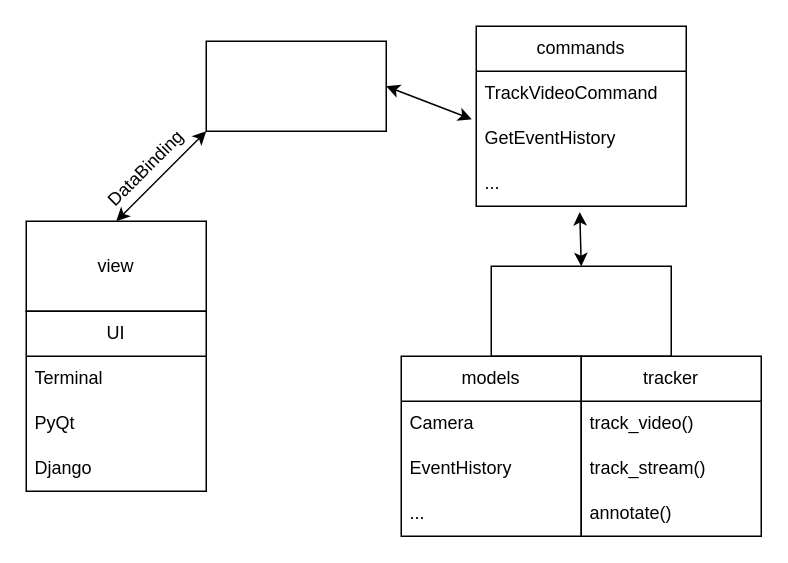
Image size: 788x563. Some labels were removed from this diagram. Here are the shapes that lost their labels. From the top down, the centre of each, then its label:
At point 295,85: "view model".
At point 580,310: "model".
